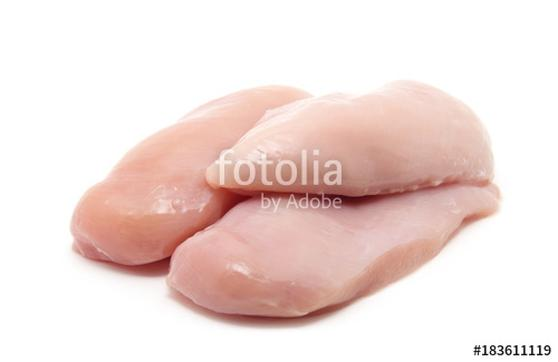chicken_fillet: (157, 187, 499, 328), (217, 81, 493, 193)
